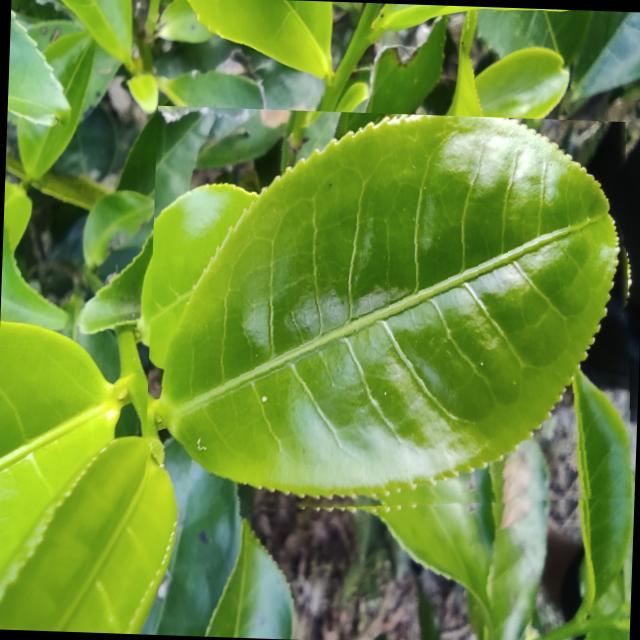Category B(2-4 days): (143, 104, 640, 529)
